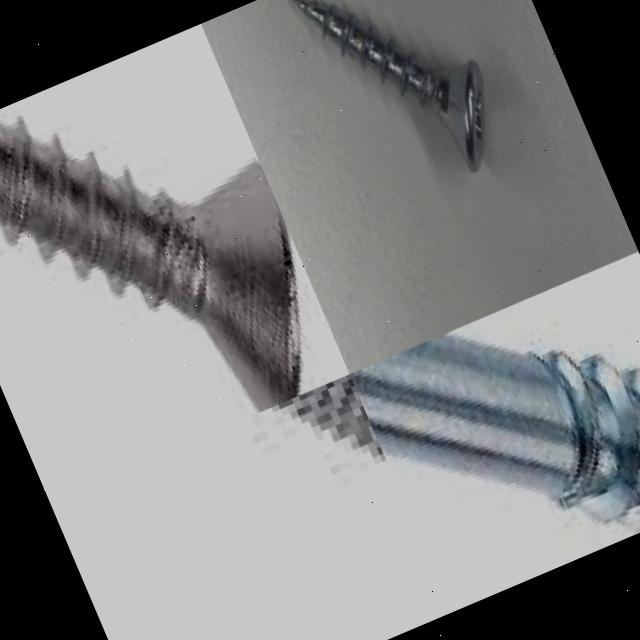Screw: (0, 110, 298, 412), (349, 329, 640, 533), (293, 0, 485, 173)
